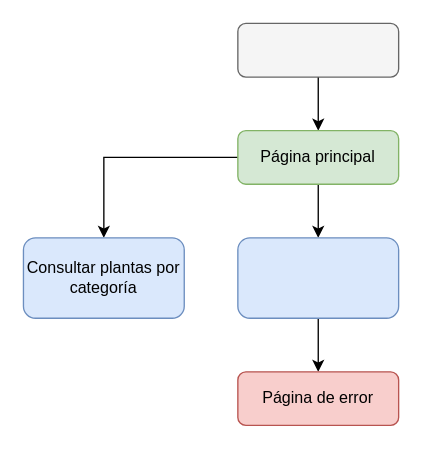
Some shapes in this 422 by 449 pixel diagram are drawn without their labels. The box of each missing label's shape, as (x1, y1, x2, y2) in pixels:
Compartir información mediante una publicación: (237, 237, 399, 318)
Login: (237, 22, 399, 77)
